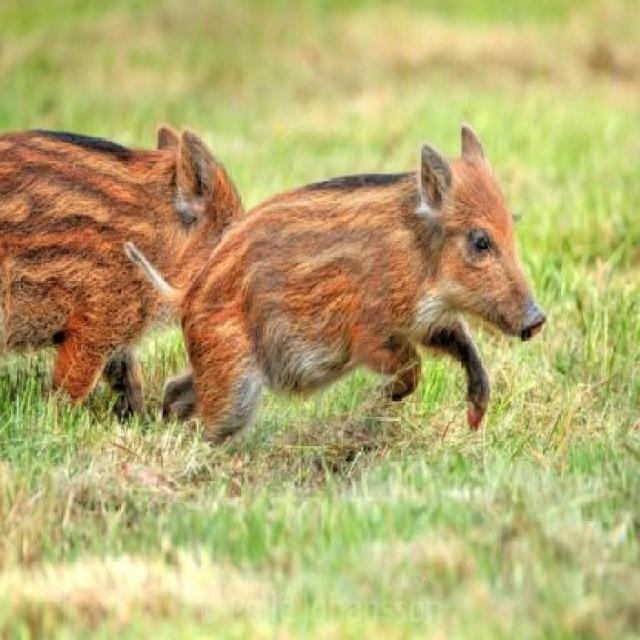wildboar: (122, 120, 546, 445), (0, 123, 248, 440)
